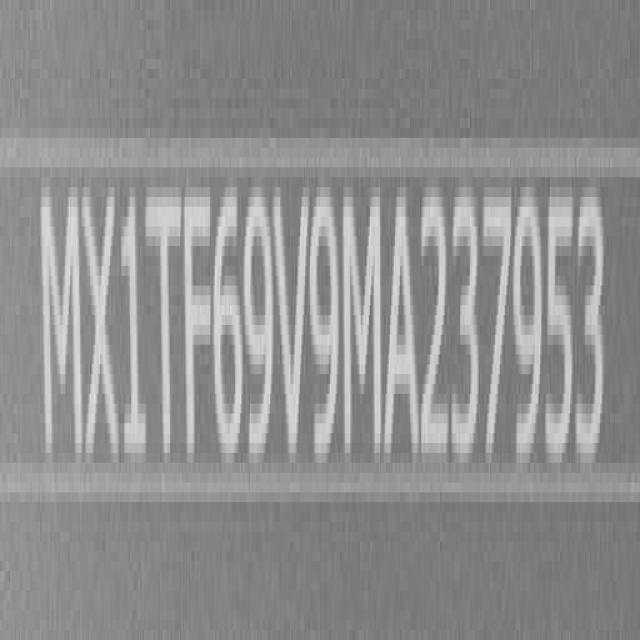1: (120, 171, 149, 463)
2: (421, 177, 449, 473)
3: (576, 179, 606, 470), (451, 174, 480, 471)
5: (546, 178, 577, 470)
6: (210, 175, 243, 467)
7: (482, 171, 512, 478)
9: (307, 182, 342, 474), (245, 177, 276, 471), (515, 179, 545, 469)
A: (387, 173, 422, 470)
F: (182, 164, 213, 478)
M: (38, 164, 87, 474), (345, 168, 384, 472)
T: (145, 164, 183, 485)
V: (273, 164, 309, 482)
X: (85, 175, 122, 476)
